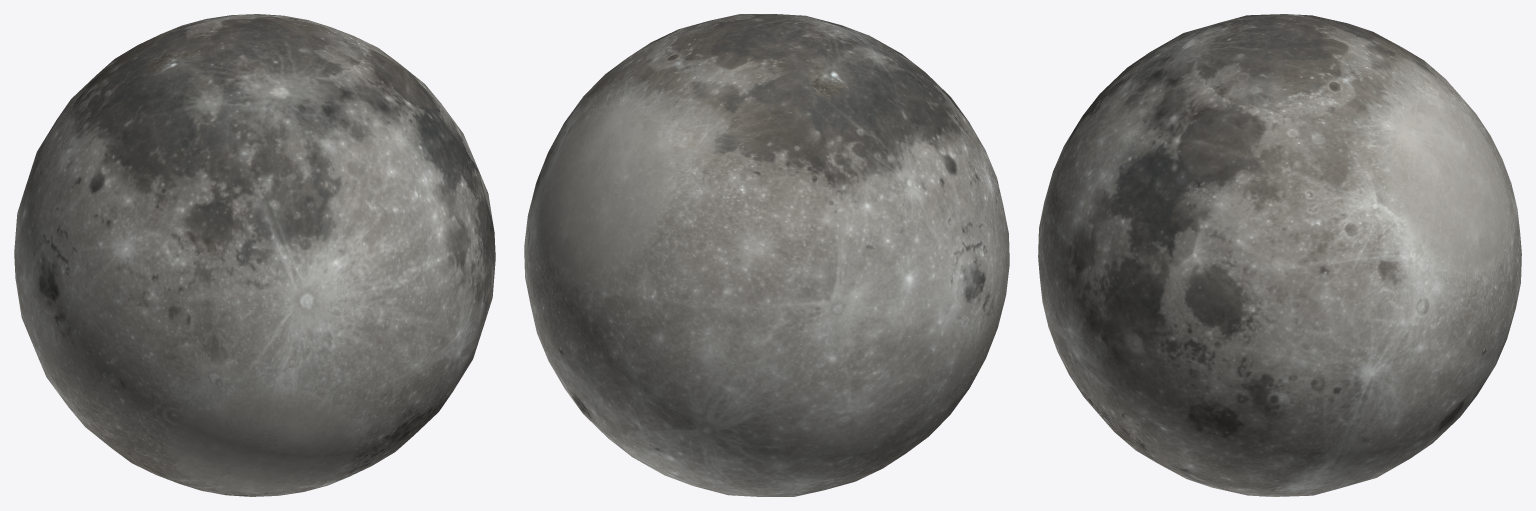
Rendered from centered_Moon.glb.
The picture shows the model from 3 angles, left to right: view 1: azimuth 30°, elevation 25°; view 2: azimuth 150°, elevation 25°; view 3: azimuth 270°, elevation 25°; orthographic projection.
Parts seen in each view (by area): view 1: MoonObject; view 2: MoonObject; view 3: MoonObject.
Boxes of the visible parts, box(x1,y1,x2,y2) form: MoonObject: box(14, 14, 495, 496); MoonObject: box(524, 14, 1009, 496); MoonObject: box(1038, 14, 1521, 496).
Bounding box in the file's own units: 14.04 × 14.02 × 14.
1 material, 1 textured.
